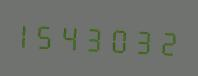five: (40, 16, 62, 54)
four: (63, 18, 85, 55)
one: (17, 15, 39, 52)
three: (86, 19, 108, 56), (132, 21, 154, 58)
two: (155, 22, 177, 60)
zero: (109, 20, 131, 57)
